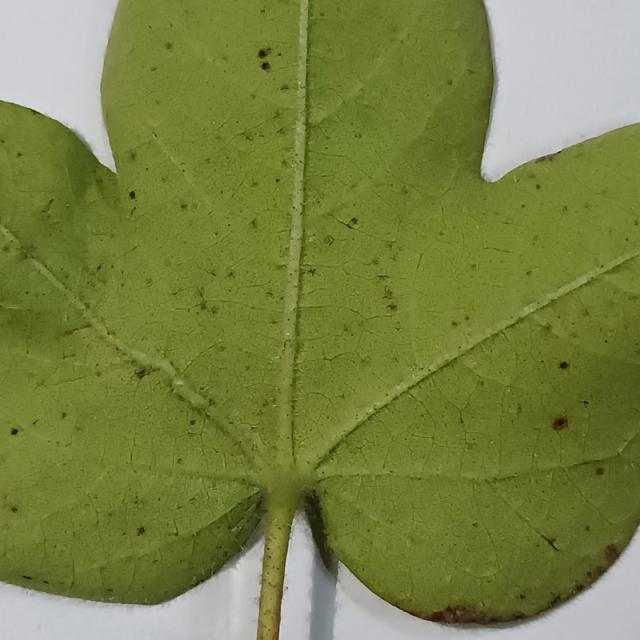Bacterial_Blight: (297, 300, 403, 380), (248, 543, 300, 635), (555, 542, 628, 605), (328, 212, 398, 254), (380, 289, 414, 321), (190, 340, 223, 365), (380, 282, 398, 312), (197, 298, 221, 317), (59, 325, 86, 340), (258, 47, 274, 71), (41, 197, 57, 218), (541, 534, 559, 550), (604, 544, 619, 563), (180, 200, 199, 213), (414, 252, 424, 273), (552, 417, 568, 430), (534, 154, 555, 163), (453, 607, 468, 619), (187, 423, 201, 435), (135, 367, 148, 379), (325, 236, 336, 248), (199, 300, 209, 312), (384, 287, 394, 298), (348, 217, 358, 228), (170, 524, 179, 536), (136, 526, 146, 536), (243, 132, 254, 141), (558, 361, 569, 370), (253, 596, 262, 606), (263, 607, 273, 616), (516, 404, 524, 415), (376, 274, 390, 280), (307, 267, 316, 276), (10, 427, 19, 436), (249, 218, 257, 228), (145, 277, 153, 287), (267, 580, 277, 588), (84, 301, 92, 311), (180, 202, 188, 211), (280, 84, 289, 92), (164, 42, 173, 50), (129, 190, 136, 200), (596, 467, 604, 475), (471, 521, 479, 528), (446, 79, 454, 86), (22, 575, 32, 580), (535, 183, 542, 190), (189, 419, 196, 426), (176, 457, 183, 464), (470, 263, 477, 270), (11, 506, 18, 513), (204, 412, 211, 419), (61, 412, 67, 420), (150, 66, 158, 72), (96, 263, 102, 271), (525, 270, 532, 276), (582, 399, 589, 405), (519, 594, 526, 600), (16, 152, 23, 158), (319, 469, 325, 476), (585, 525, 591, 531), (152, 132, 158, 138), (106, 588, 113, 593), (275, 178, 280, 183), (625, 237, 630, 242)
Cotton: (0, 0, 639, 623)
